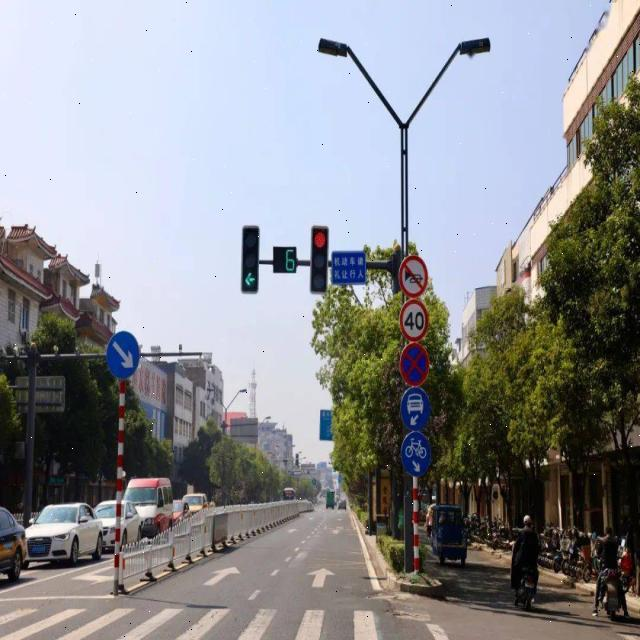speed limit 40: (399, 299, 428, 341)
